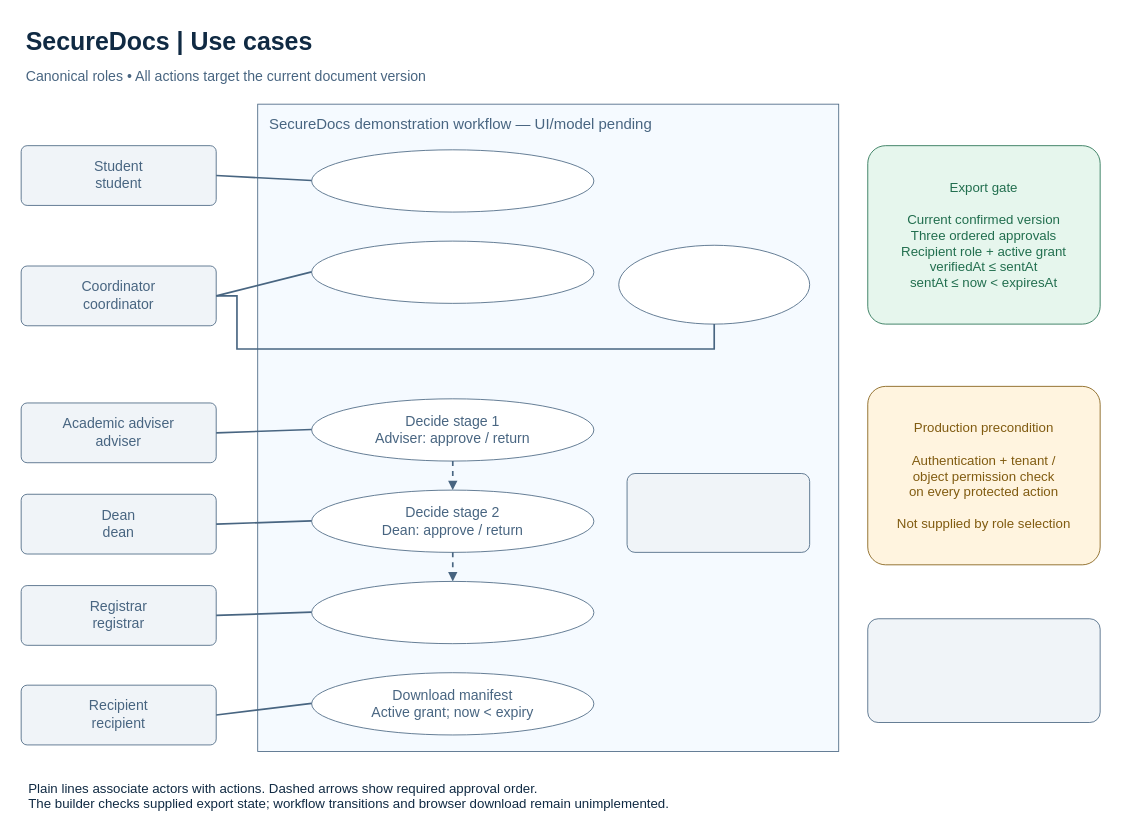
This 1121x828 diagram has some shape labels left out. Each missing label, with the centre of its shape:
Administrator (planned) Manage membership / keys No implicit approval authority: (983,670)
Check source and start route Only confirmed may proceed: (452,271)
Decide stage 3 Registrar: approve / return: (452,612)
Grant / revoke access Recipient + deadline: (714,284)
Prepare / replace ISP Confirm required fields: (452,180)
Return requires a reason Ends the current route Restart is explicit: (718,512)
